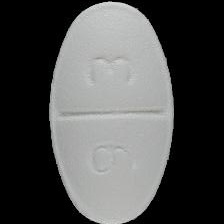0093-7701: (0, 0, 224, 224)
